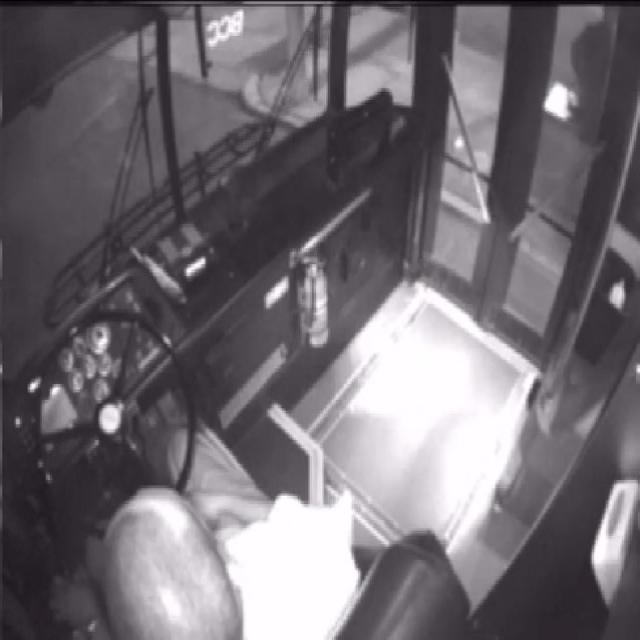bus-door: (417, 7, 633, 367)
